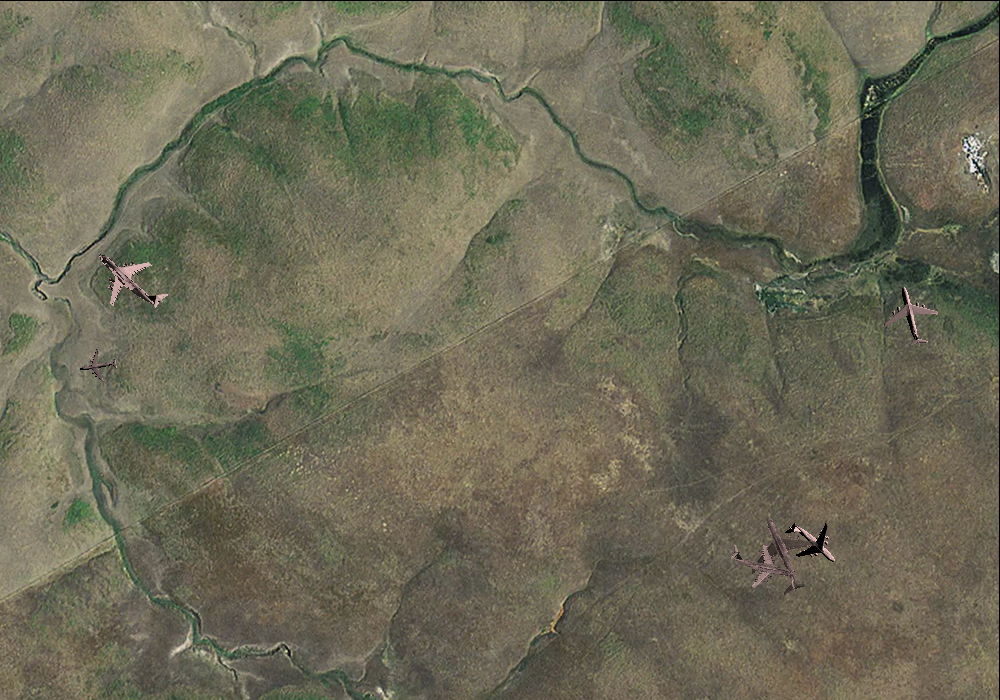plane: (77, 226, 183, 332), (731, 503, 833, 606), (773, 505, 851, 582), (723, 528, 800, 598), (876, 279, 946, 352), (76, 345, 120, 387)
